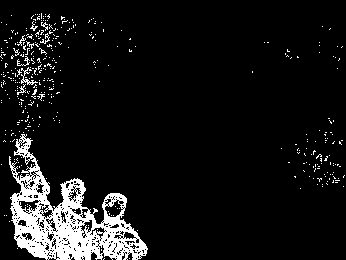person: (10, 172, 56, 259), (52, 178, 99, 260), (93, 192, 149, 260), (7, 133, 54, 197)
